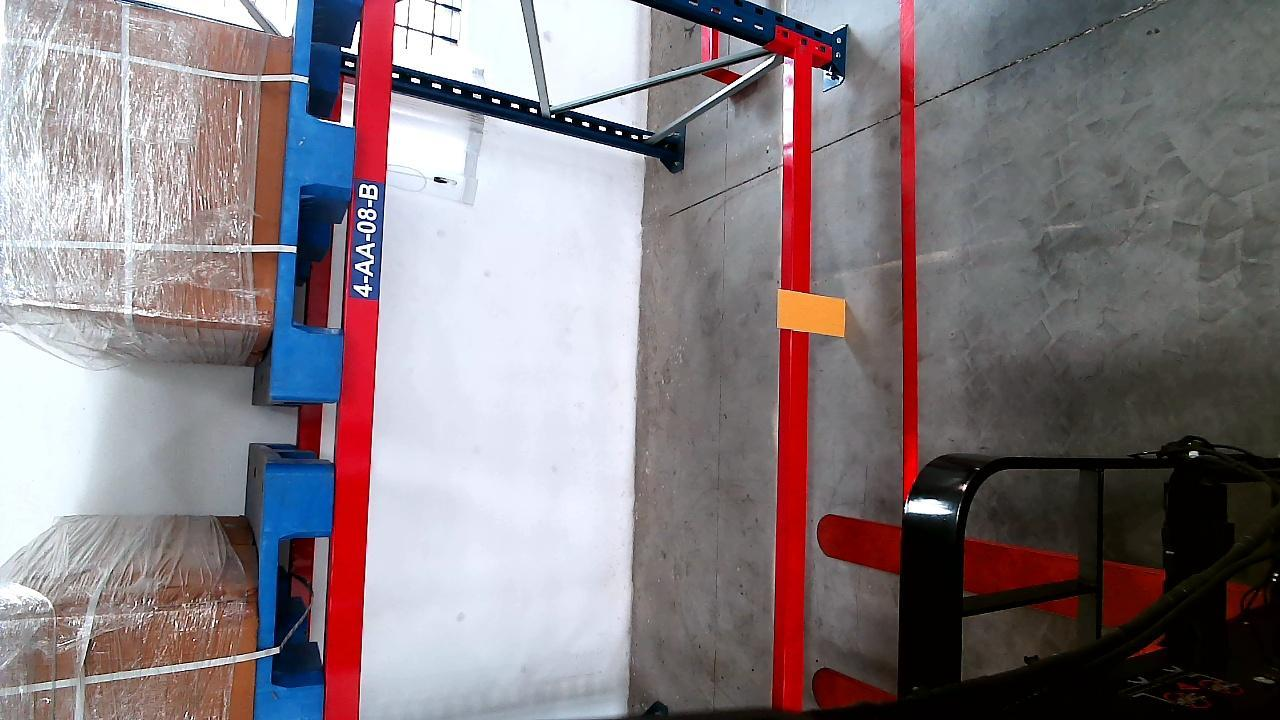red_line: (895, 1, 924, 501)
